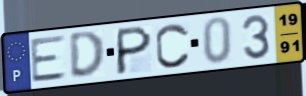0: (200, 15, 236, 67)
3: (240, 12, 273, 61)
C: (154, 21, 192, 70)
D: (68, 29, 108, 80)
E: (28, 33, 69, 85)
P: (114, 24, 154, 76)
